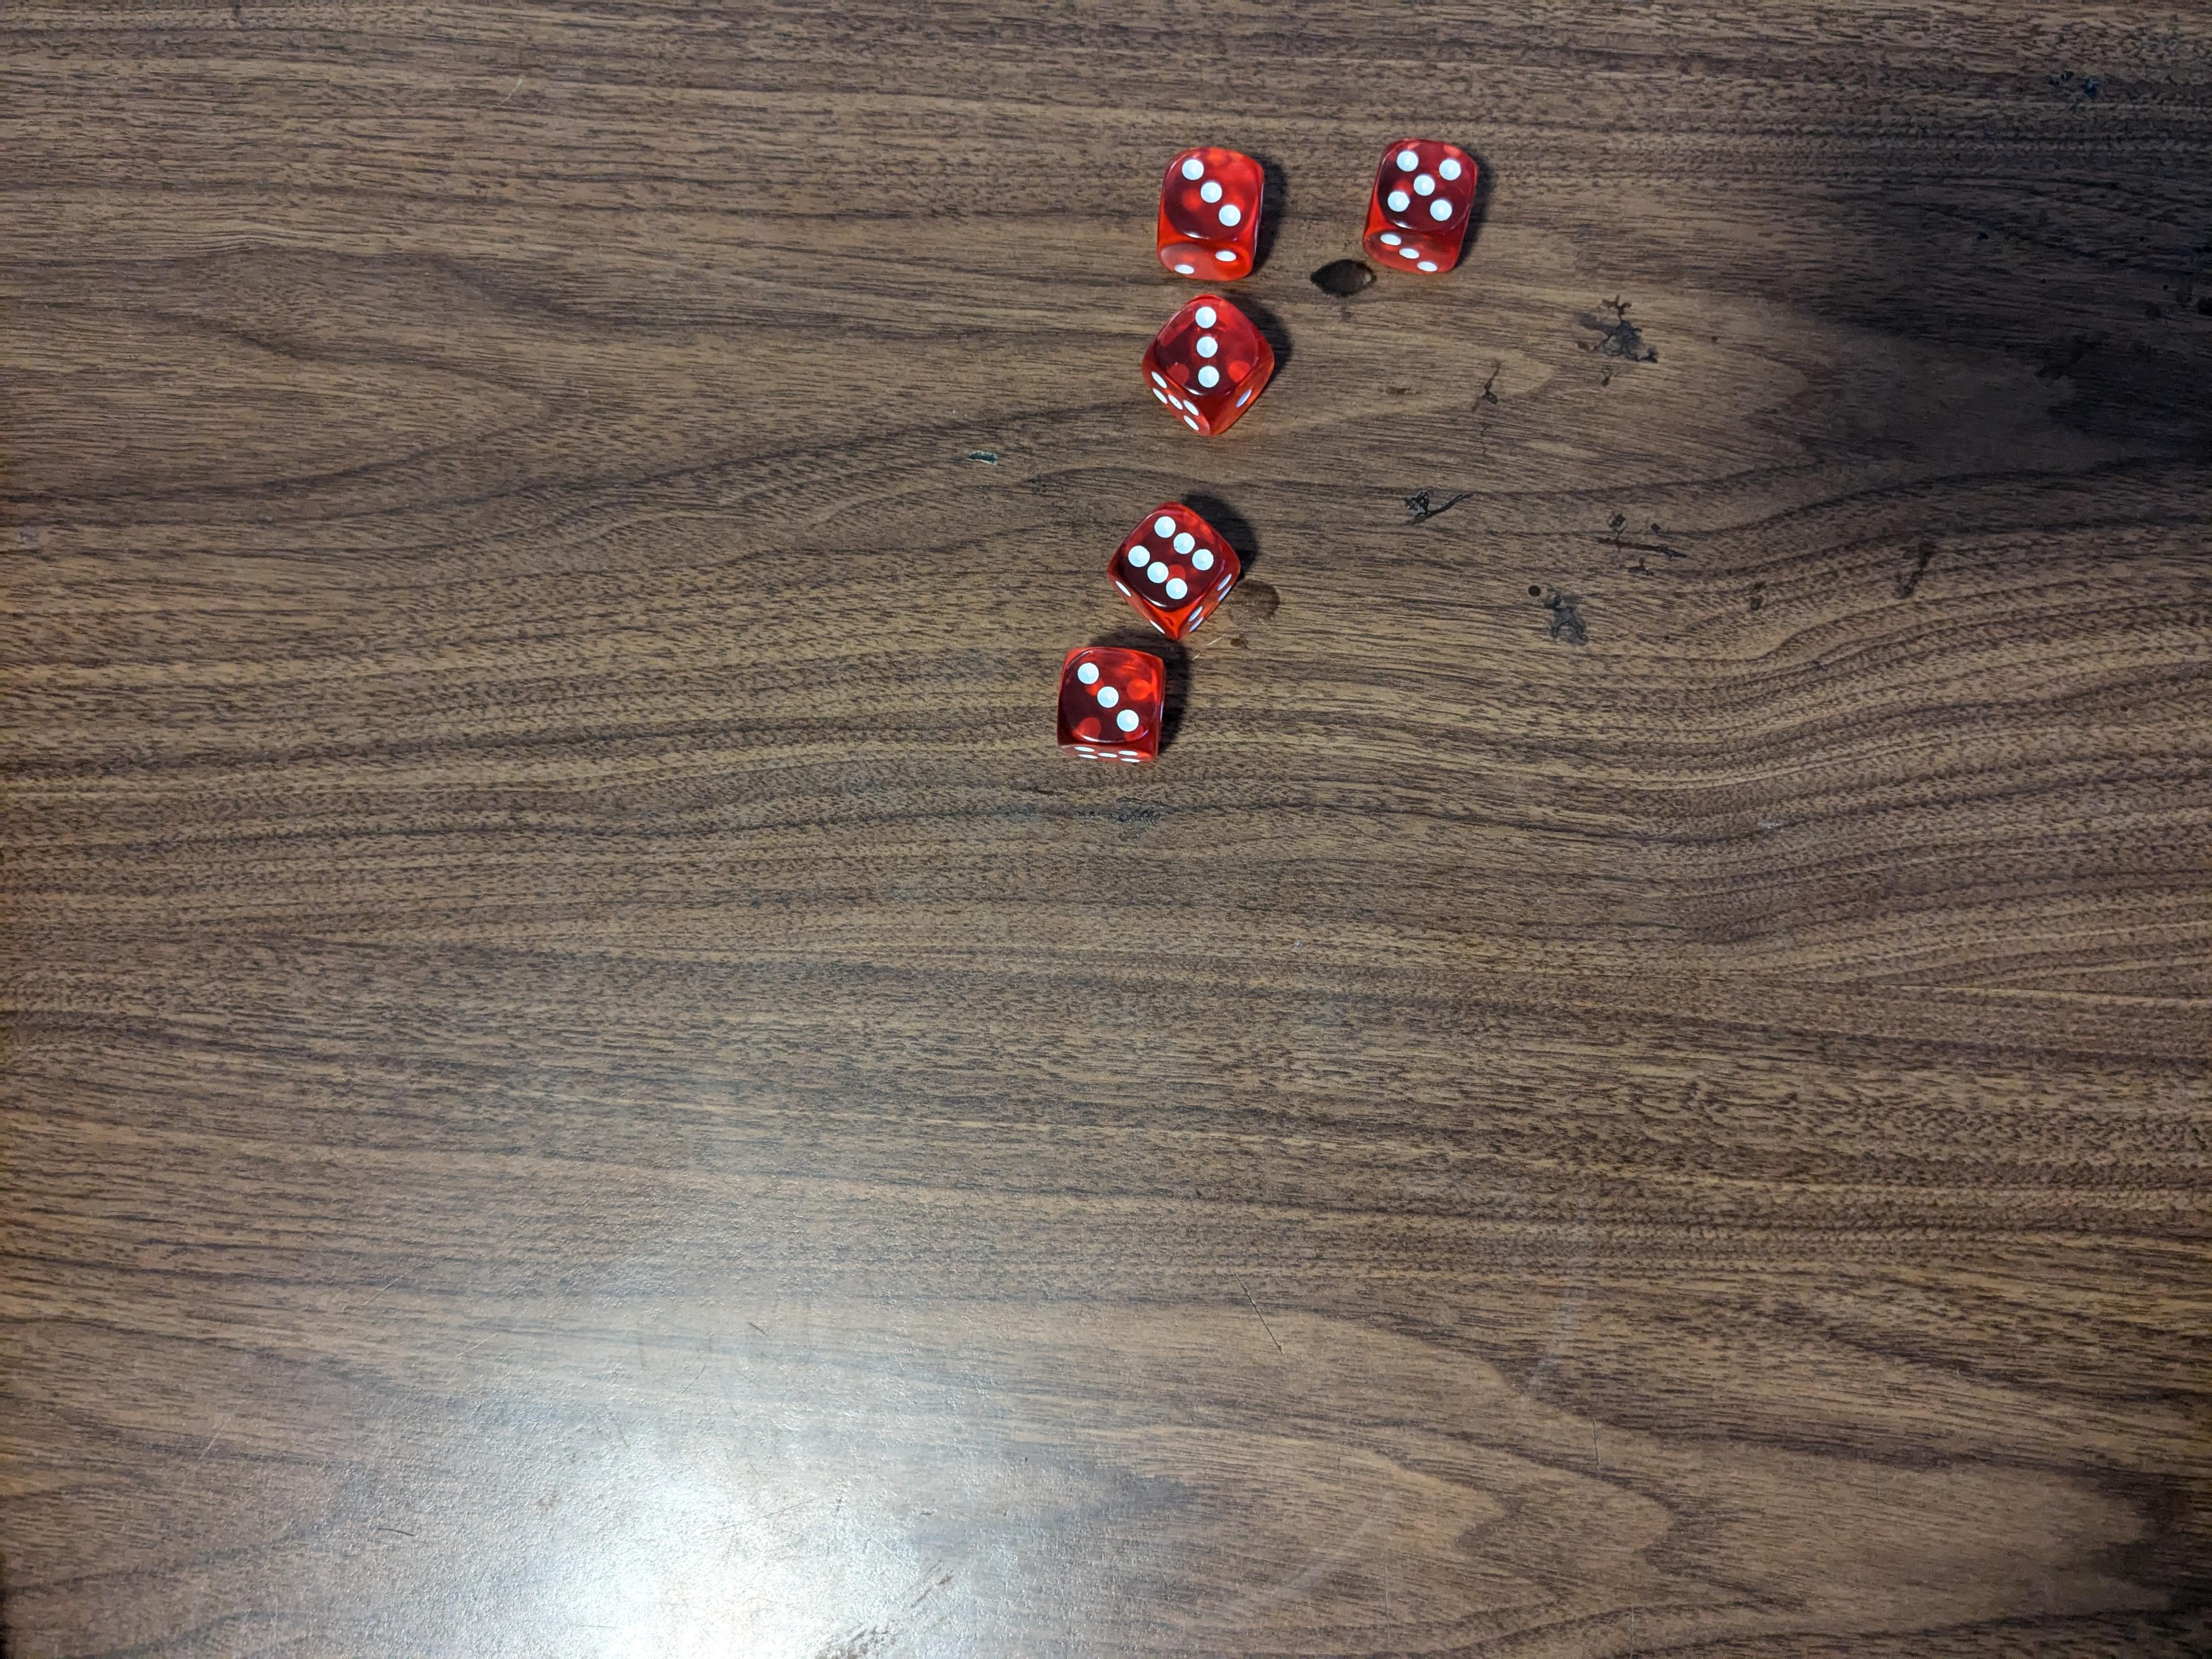five: (1362, 136, 1486, 281)
six: (1104, 498, 1245, 633)
three: (1143, 291, 1289, 439), (1157, 141, 1270, 279), (1059, 648, 1177, 769)
